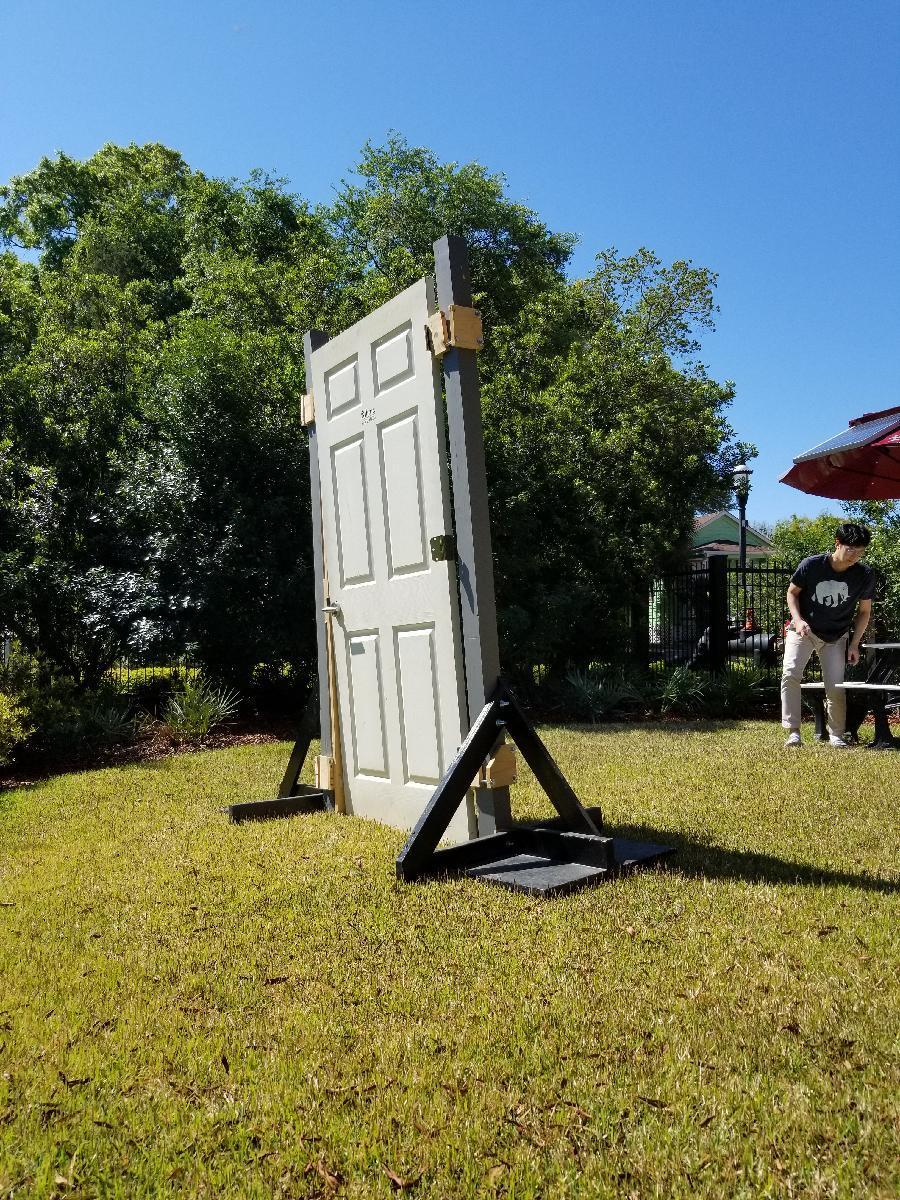door: (308, 338, 464, 821)
handle: (310, 590, 356, 626)
